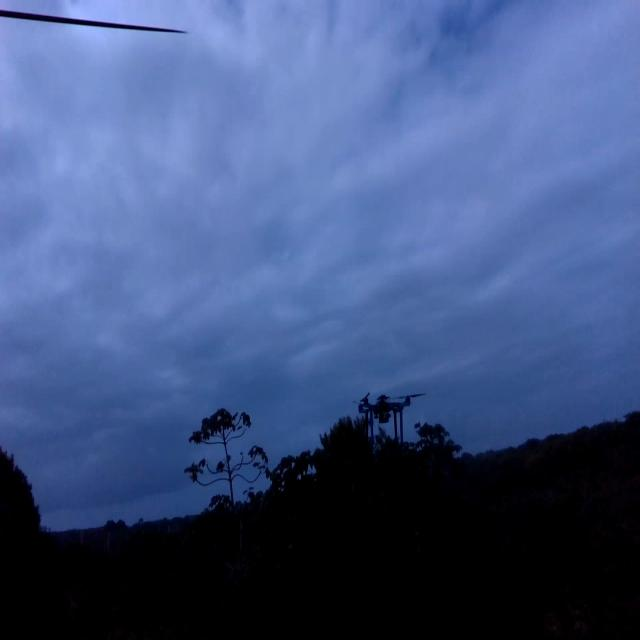-uav-: (356, 390, 413, 458)
